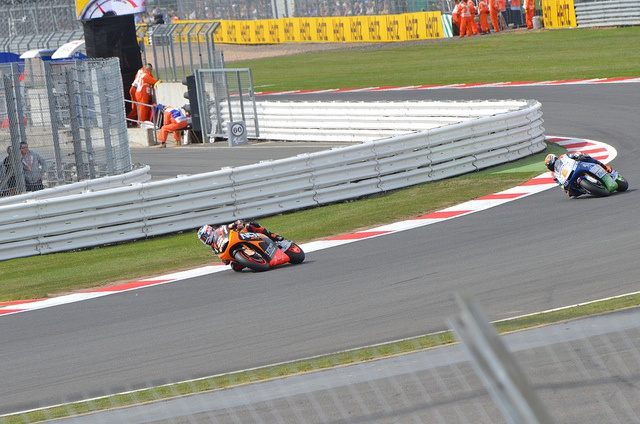non-vehicle: (215, 219, 304, 270), (553, 151, 628, 196)
